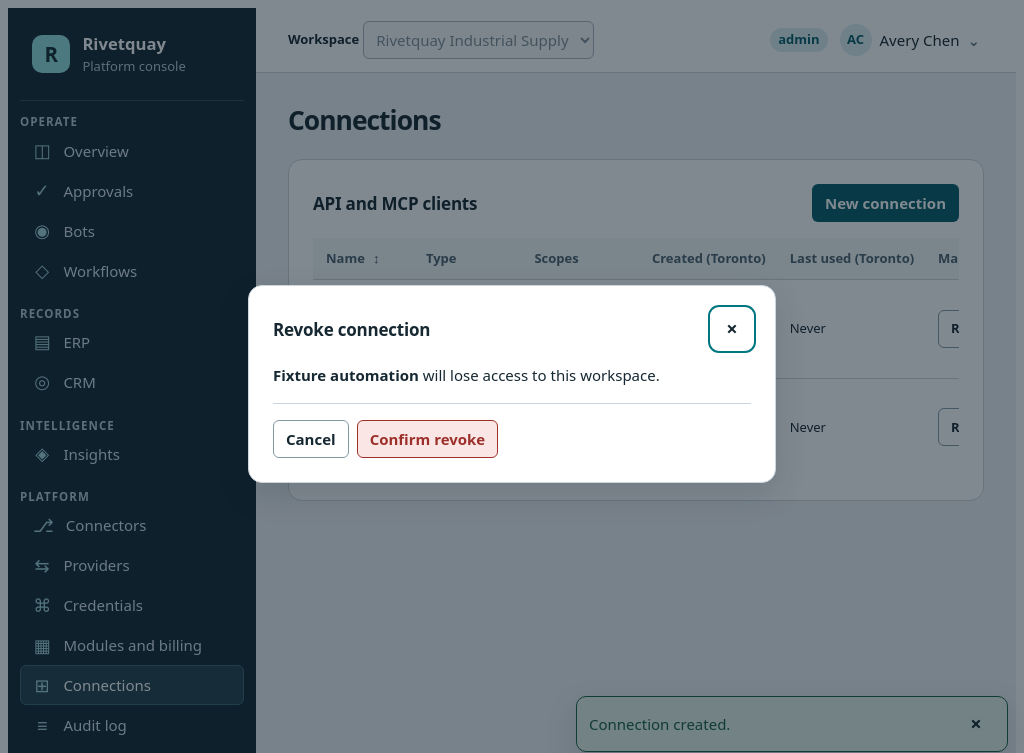
Scenario: platform app › reveals the secret once and confirms revocation
The width and height of the screenshot is (1024, 753).
Earlier steps of the test are not shown.
Click the button "Confirm revoke" at (427, 439), box [357,420,498,458]
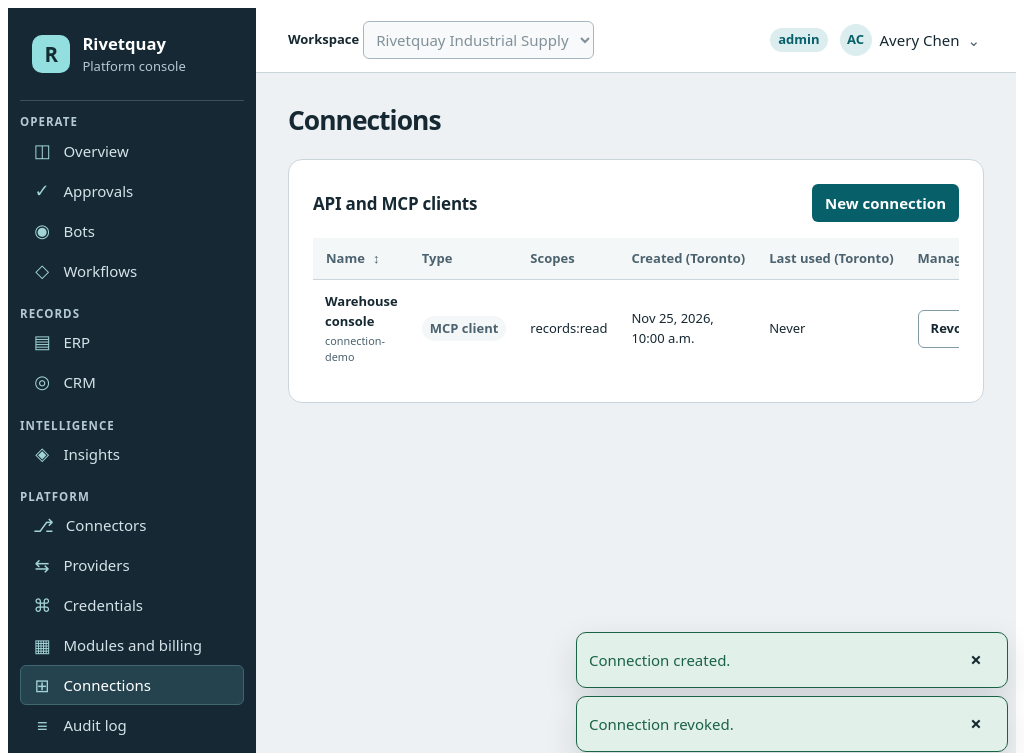
Check: the text "Fixture automation" is gone
Check: the text "Connection revoked." is shown, box [589,713,734,735]
